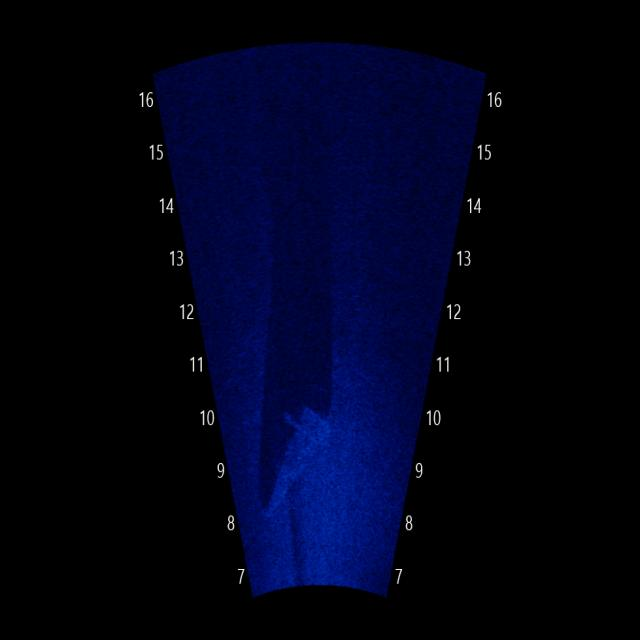triangle: (258, 375, 336, 537)
